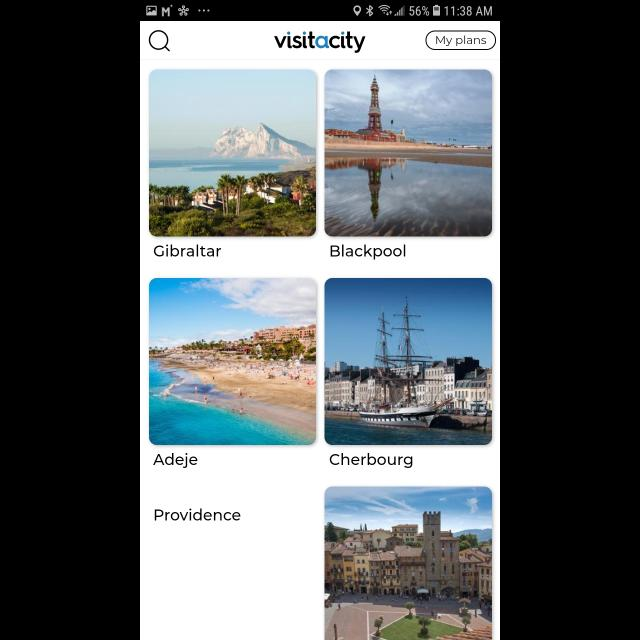icon: (149, 30, 171, 52)
image: (150, 278, 316, 446), (326, 278, 492, 446), (150, 70, 316, 238), (324, 70, 492, 236), (324, 486, 492, 640), (274, 32, 366, 54)
text: (330, 452, 412, 468), (330, 244, 406, 260), (155, 508, 241, 520), (154, 244, 222, 256), (154, 452, 198, 468)
textbutton: (426, 31, 496, 51)
uppertaskbar: (140, 1, 500, 22)
